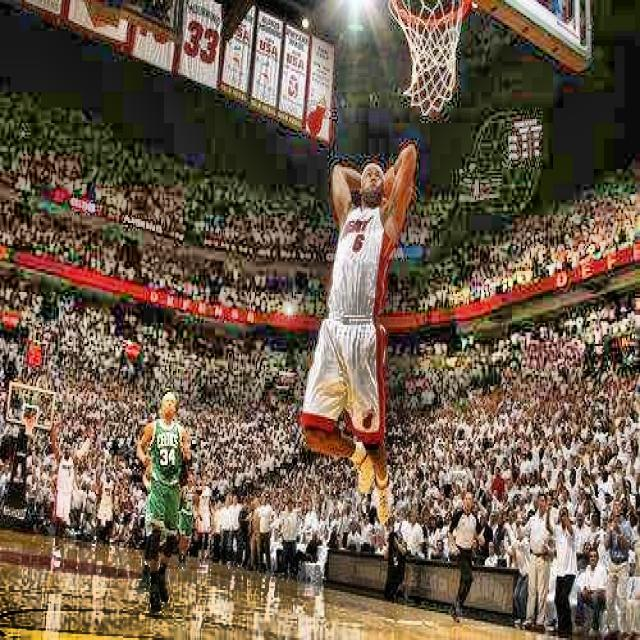rim: (388, 0, 471, 113)
